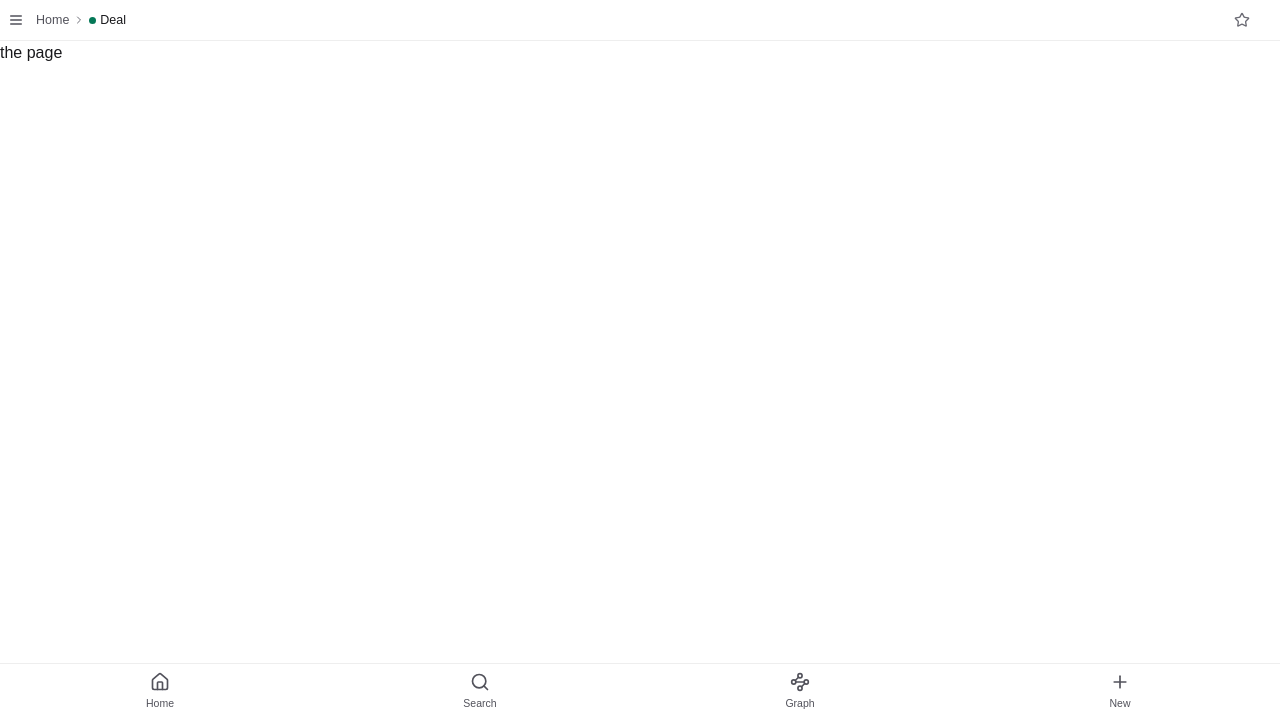
Test case: <Shell /> on a phone › starts closed and inert, and opens as a modal dialog
Expected: the text "the page" is shown, [0,44,62,61]
Step 1. Click the button named "Open navigation" → click(16, 20), box [0,4,32,36]
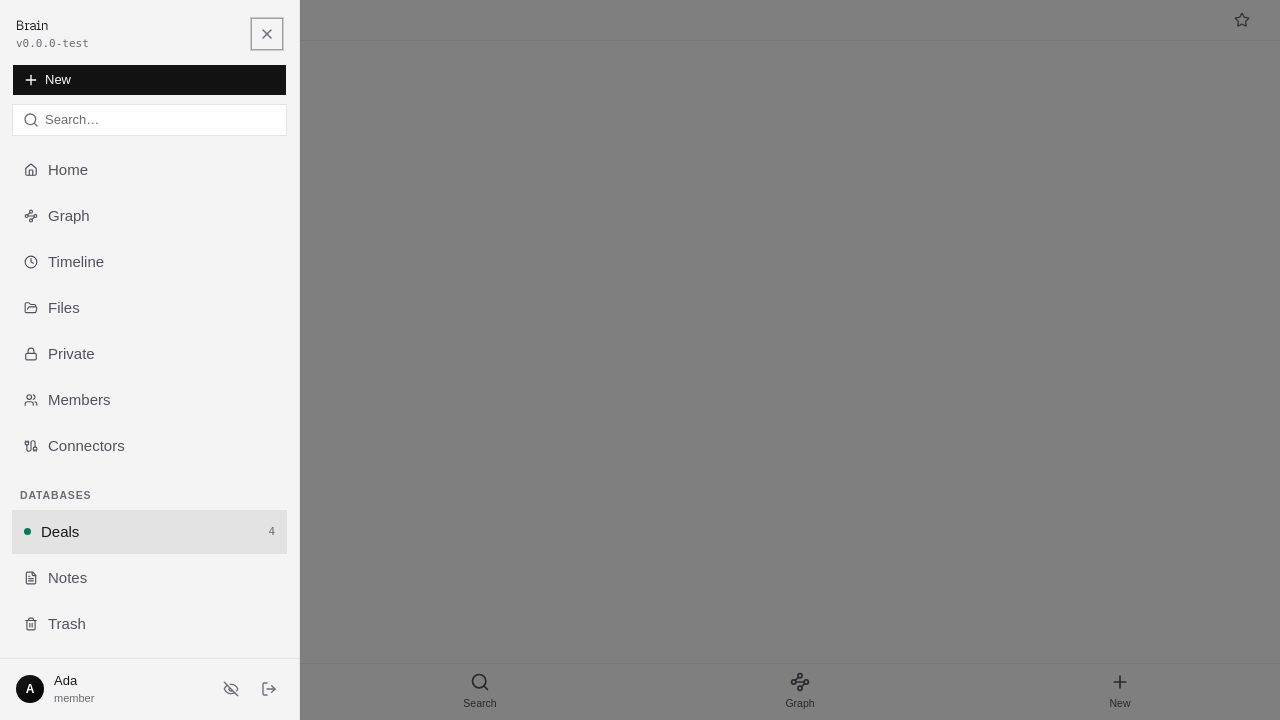
Result: the button named "Open navigation" is expanded at [0,4,32,36]
